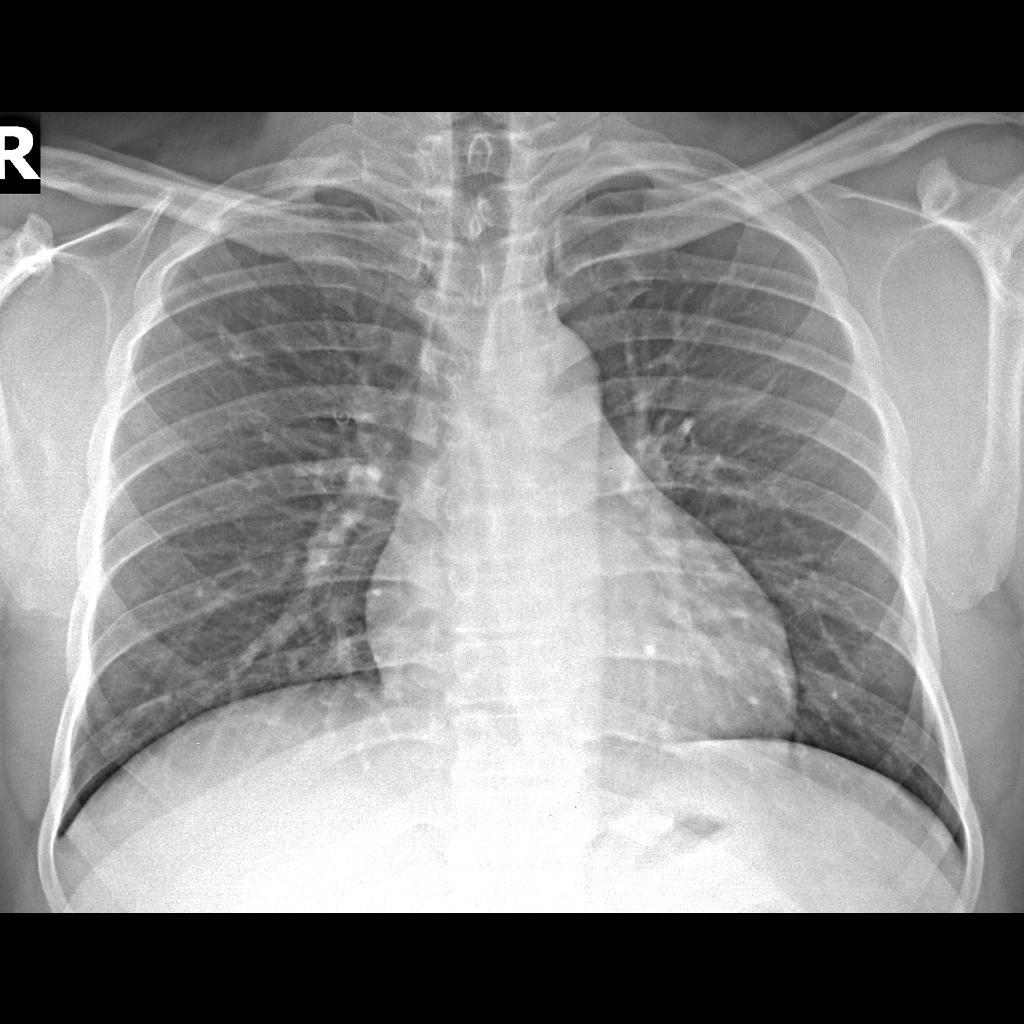Nodule: (212, 329, 272, 377)
